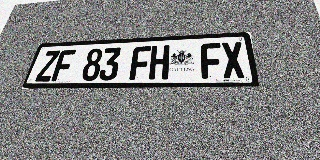3: (98, 47, 122, 80)
8: (80, 48, 104, 81)
F: (51, 49, 76, 81), (201, 43, 223, 79), (129, 46, 151, 80)
H: (149, 45, 170, 80)
X: (221, 42, 246, 78)
Z: (35, 50, 61, 82)
